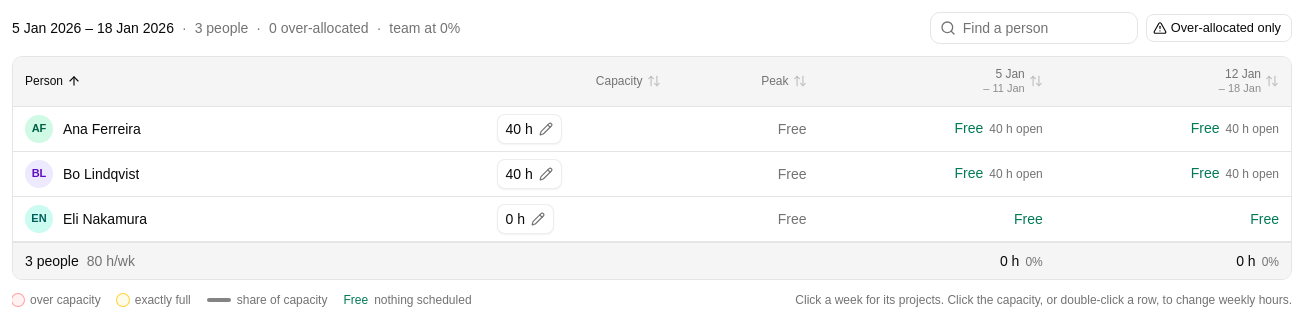
it: CapacityGrid search › applies at once on Enter and when the box is cleared
Expected: the row "AF Ana Ferreira 40 h Free Free 40 h open Free 40 h open" is shown, [13,107,1291,152]
In the search field labelled "Find a person": point(1034, 28) [930,12,1138,44], type "nobody"
Then press Enter
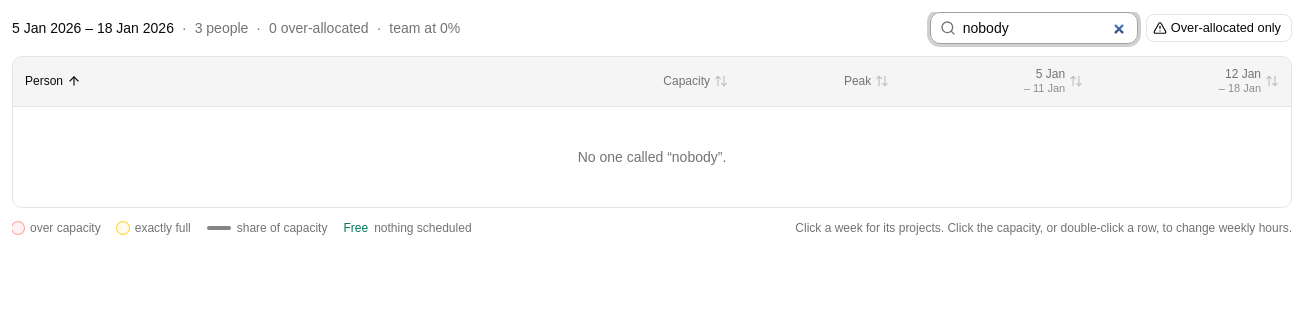
Expected: the text "No one called “nobody”." is shown, [13,107,1291,207]
Clear the search field named "Find a person": point(1034, 28) [930,12,1138,44]
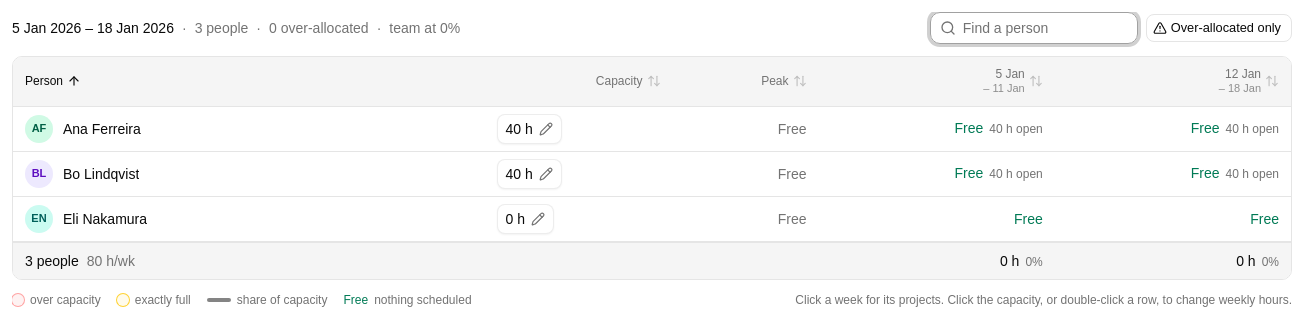
Expected: the row "AF Ana Ferreira 40 h Free Free 40 h open Free 40 h open" is shown, [13,107,1291,152]
Expected: the row "BL Bo Lindqvist 40 h Free Free 40 h open Free 40 h open" is shown, [13,152,1291,197]
Expected: the row "EN Eli Nakamura 0 h Free Free Free" is shown, [13,197,1291,242]
